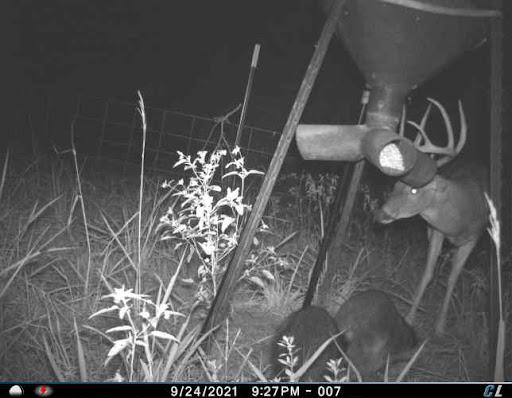Deer: (373, 90, 493, 340)
